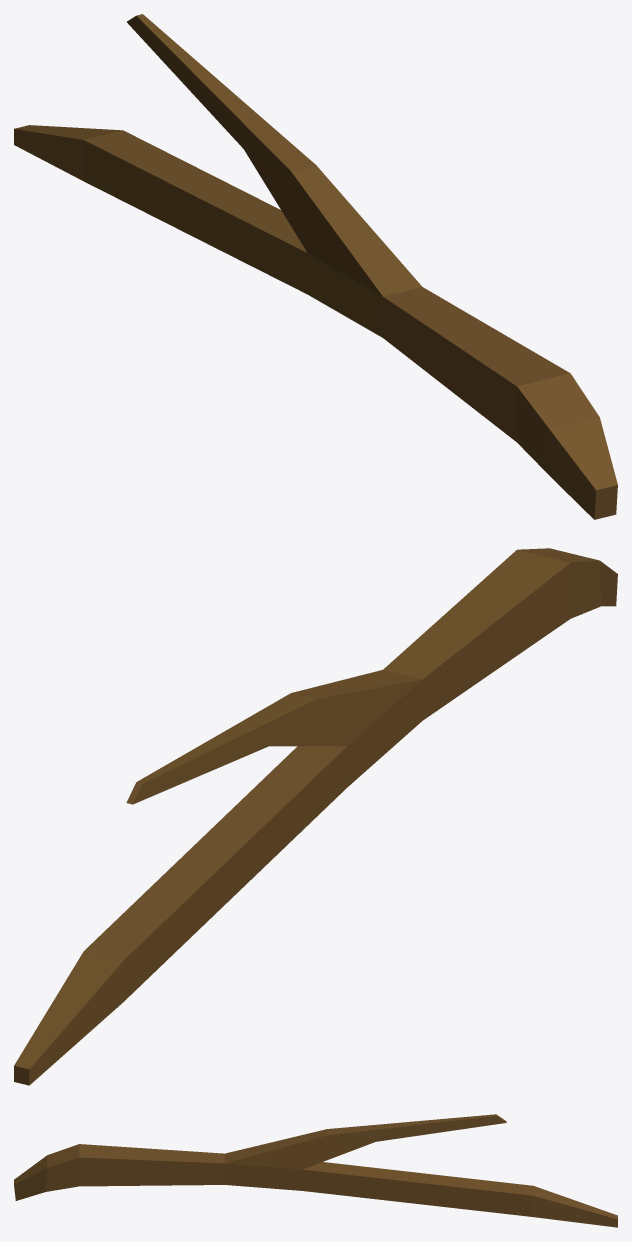
Rendered from Galhinho 1.fbx.
3 views of the same model, one above another, from view 1: azimuth 30°, elevation 25°; view 2: azimuth 150°, elevation 25°; view 3: azimuth 270°, elevation 25° (orthographic). The views are drawn at different scales.
Visible parts, largest first — view 1: Graveto 2; view 2: Graveto 2; view 3: Graveto 2.
Part boxes in pixels (x1,y1,x2,y2): Graveto 2: [14, 14, 617, 519]; Graveto 2: [14, 548, 617, 1085]; Graveto 2: [14, 1114, 617, 1227].
Size of the model in its own units: 20.26 by 77.47 by 383.
